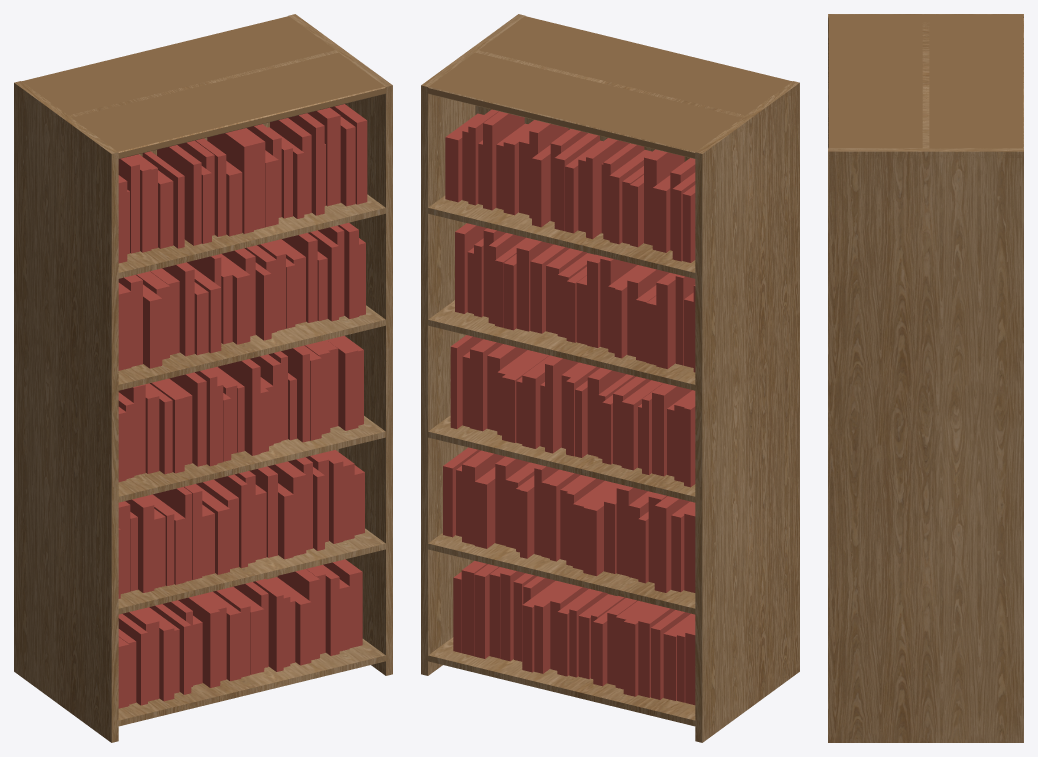
The model's file is library_shelves.glb.
3 views of the same model, side by side, from view 1: azimuth 30°, elevation 25°; view 2: azimuth 150°, elevation 25°; view 3: azimuth 270°, elevation 25° (orthographic).
Visible parts, largest first — view 1: library_shelves; view 2: library_shelves; view 3: library_shelves.
Boxes of the visible parts, left/top/right/bottom form: library_shelves: left=14, top=14, right=392, bottom=742; library_shelves: left=421, top=14, right=799, bottom=742; library_shelves: left=828, top=14, right=1023, bottom=742.
Bounding box in the file's own units: 1 × 2 × 0.6.
Materials: 2 (1 with a texture image).
